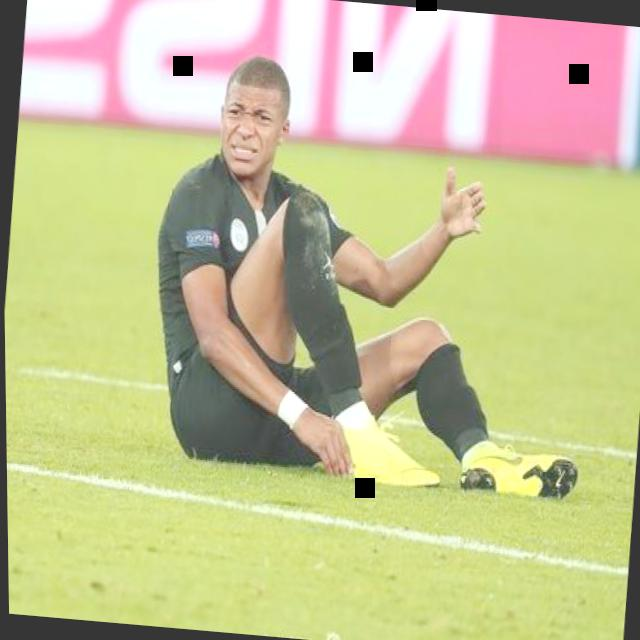Fall-Detected: (123, 22, 627, 524)
